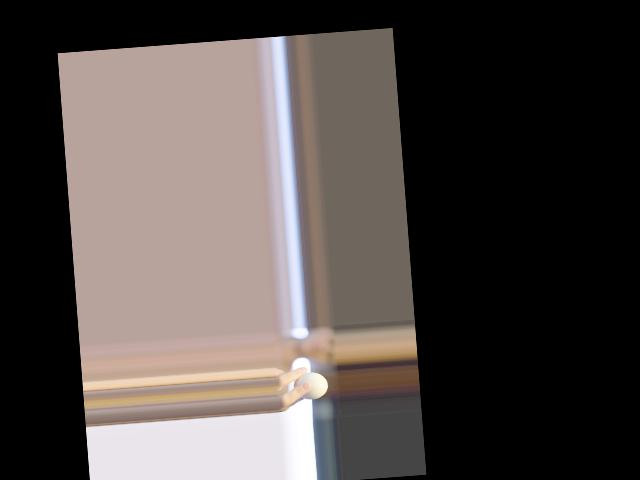egg: (292, 370, 328, 400)
